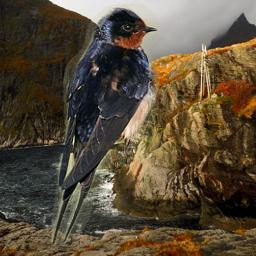Swallow: (46, 4, 159, 246)
